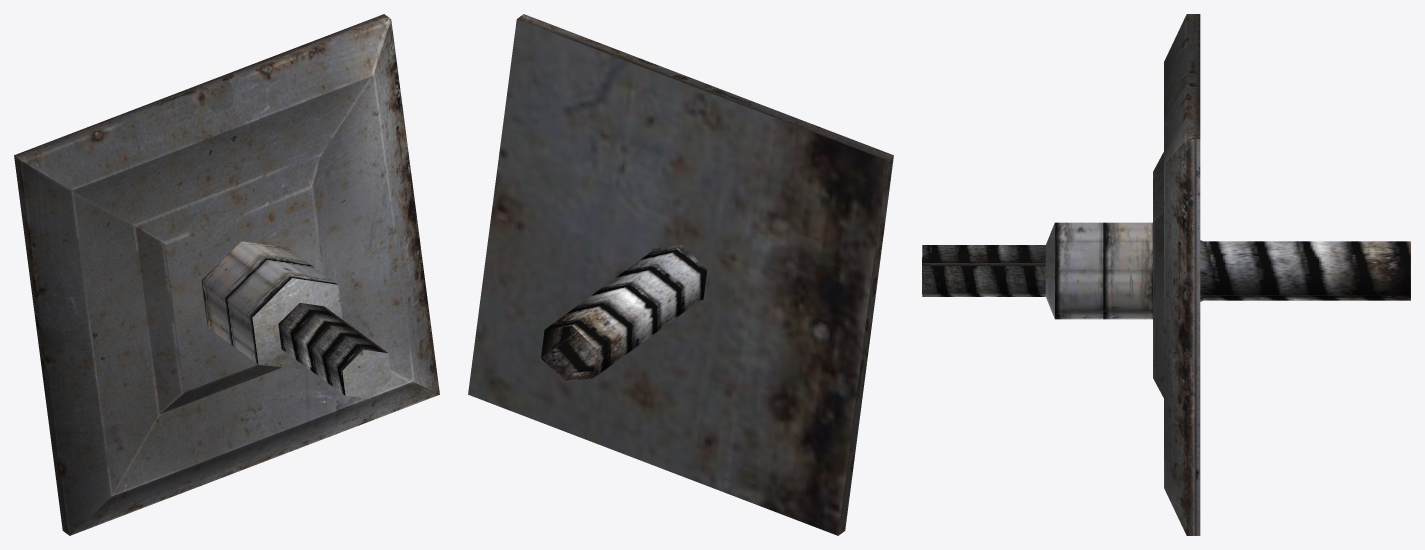
The model's file is Church_Tower_Metal_Screw.fbx.
3 renders of one model, left to right at view 1: azimuth 30°, elevation 25°; view 2: azimuth 150°, elevation 25°; view 3: azimuth 270°, elevation 25°, orthographic. The views are drawn at different scales.
Parts seen in each view (by area): view 1: Church_Tower_Metal_Screw; view 2: Church_Tower_Metal_Screw; view 3: Church_Tower_Metal_Screw.
Boxes of the visible parts, x1,y1,x2,y2 form: Church_Tower_Metal_Screw: [14, 14, 439, 535]; Church_Tower_Metal_Screw: [468, 14, 893, 535]; Church_Tower_Metal_Screw: [922, 14, 1410, 535].
Bounding box in the file's own units: 0.4128 × 0.4129 × 0.4322.
